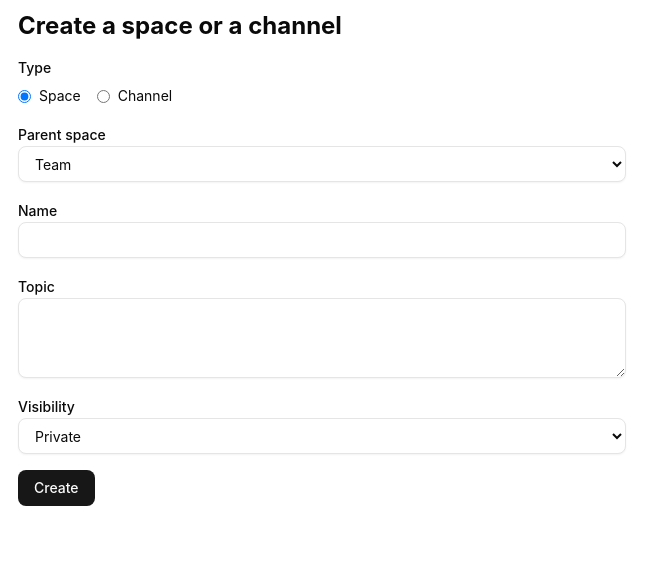
Scenario: CreateRoomForm › shows a permission error for the whole form
Step 1. Type "Design" into the field labelled "Name" → (322, 240), box [18, 222, 626, 258]
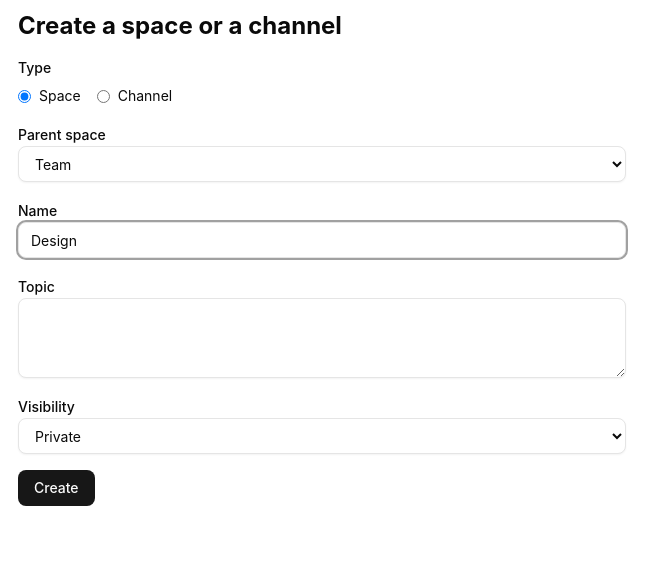
Step 2. Click the button "Create" → (56, 488), box [18, 470, 95, 506]
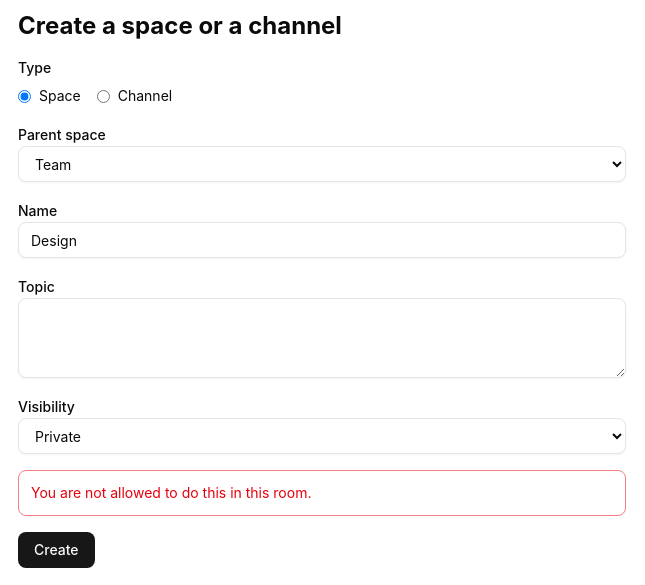
Check: the message reads "You are not allowed to do this in this room.", box [31, 484, 311, 501]
